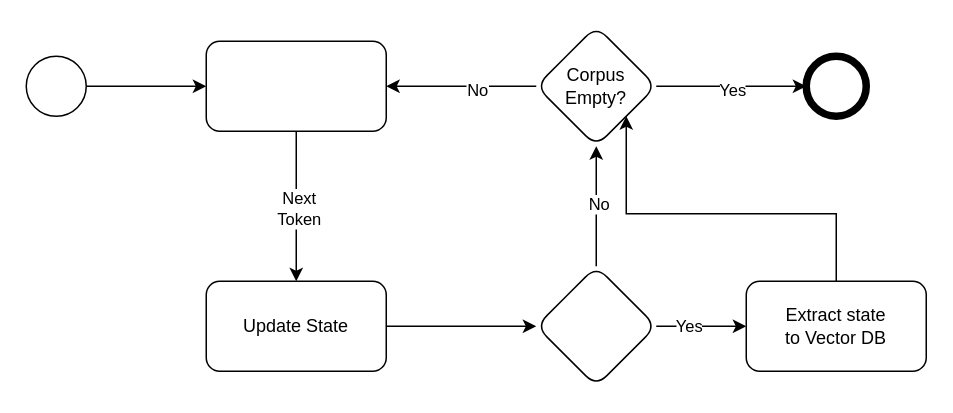
Some shapes in this 953 by 413 pixel diagram are drawn without their labels. The centre of each missing label's shape, as x and y in pixels:
Entropy Spike?: pixel 595 325
Tokenize/Patch: pixel 295 85
